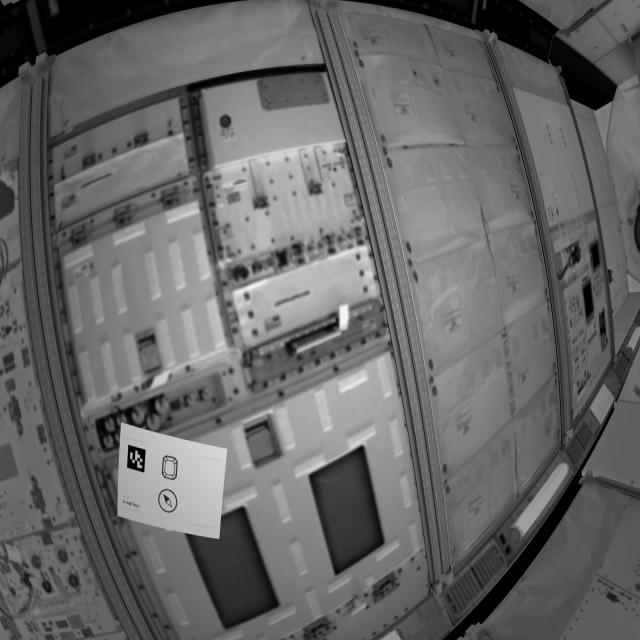compass: (157, 486, 182, 518)
emerald: (160, 455, 185, 483)
